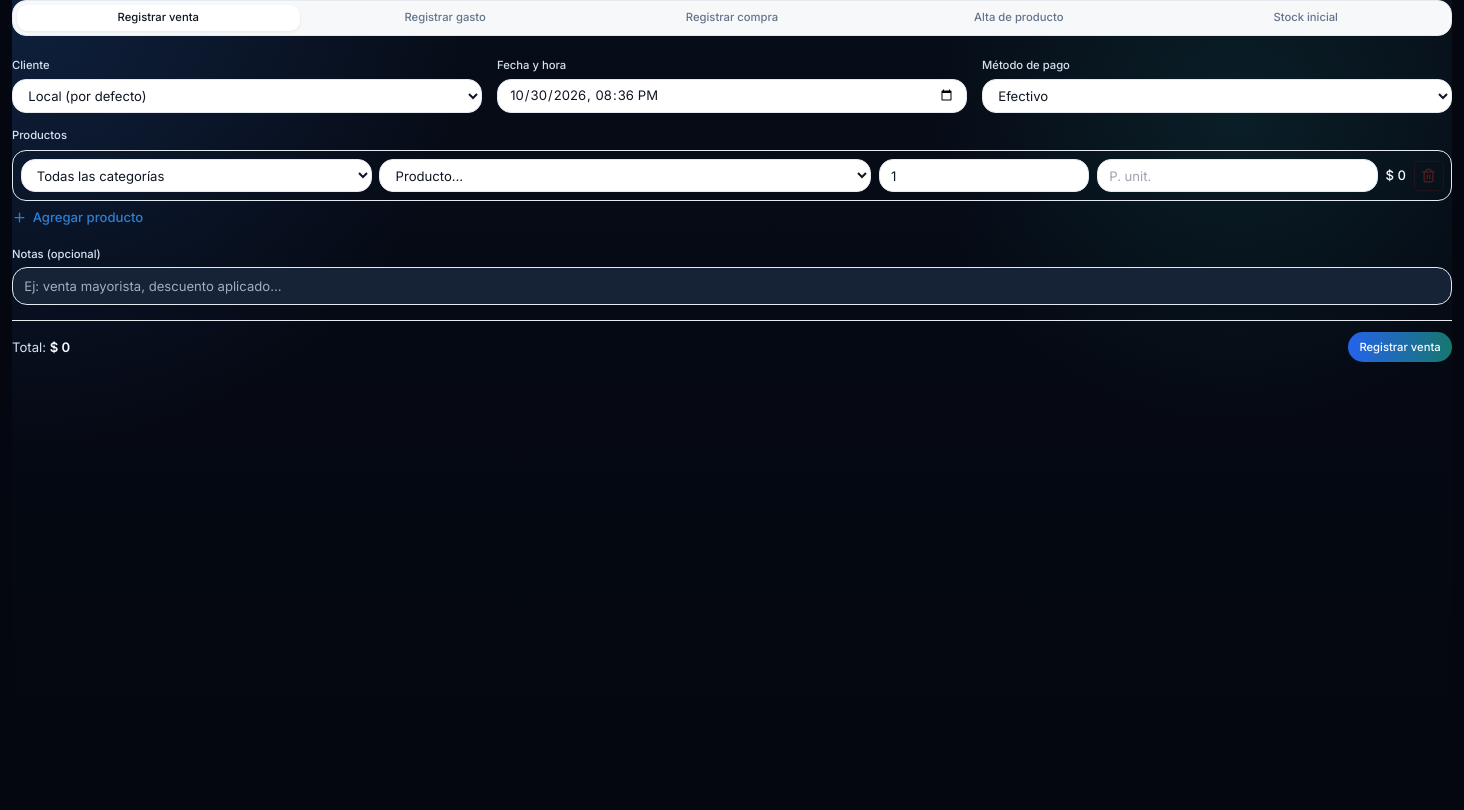
Test: con stock y sin precio de compra no se envía
Click the button "Alta de producto" at (1019, 18), box [877,5,1160,31]
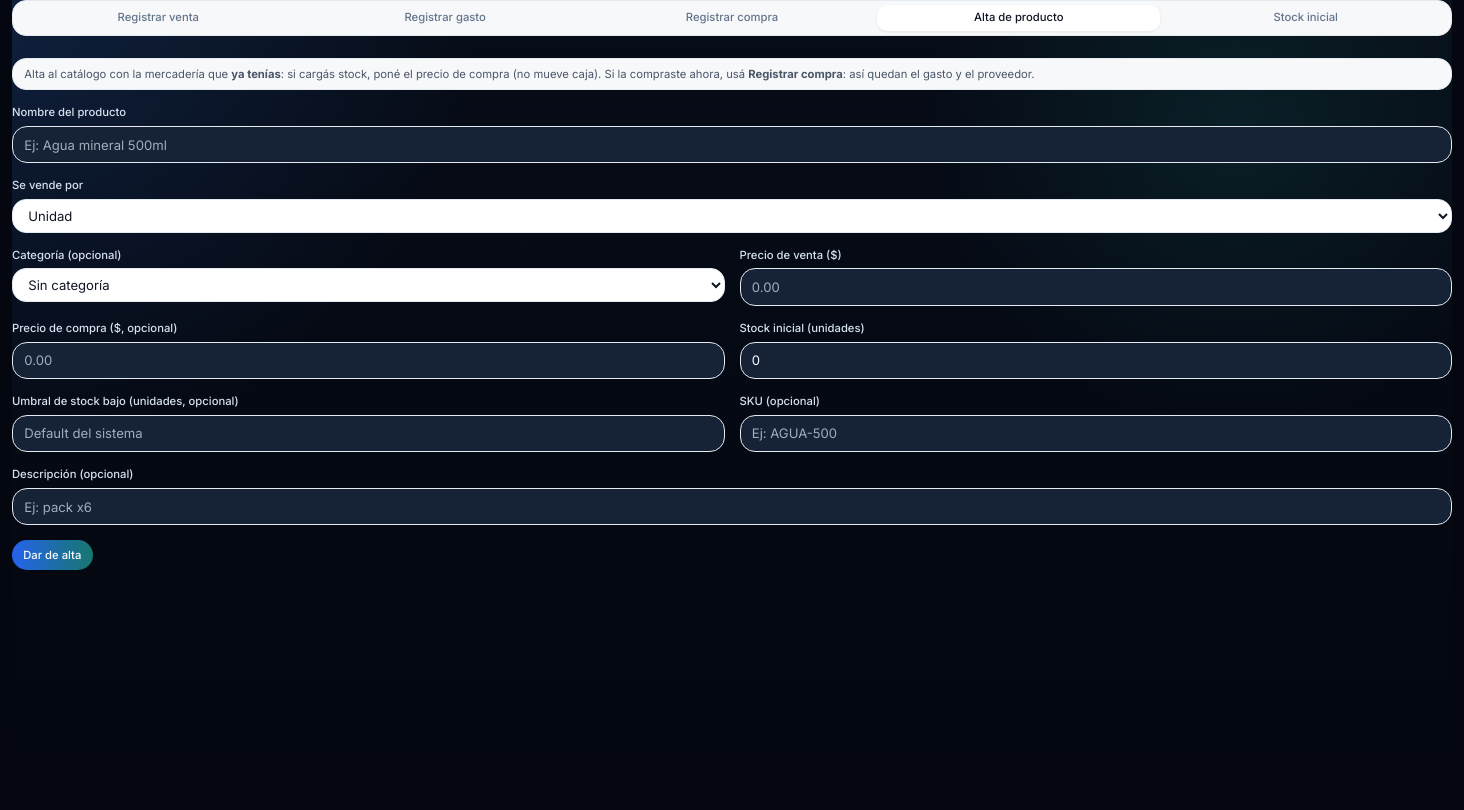
Type "Vela" into the field labelled "Nombre del producto" at (732, 145), box [12,126,1452,163]
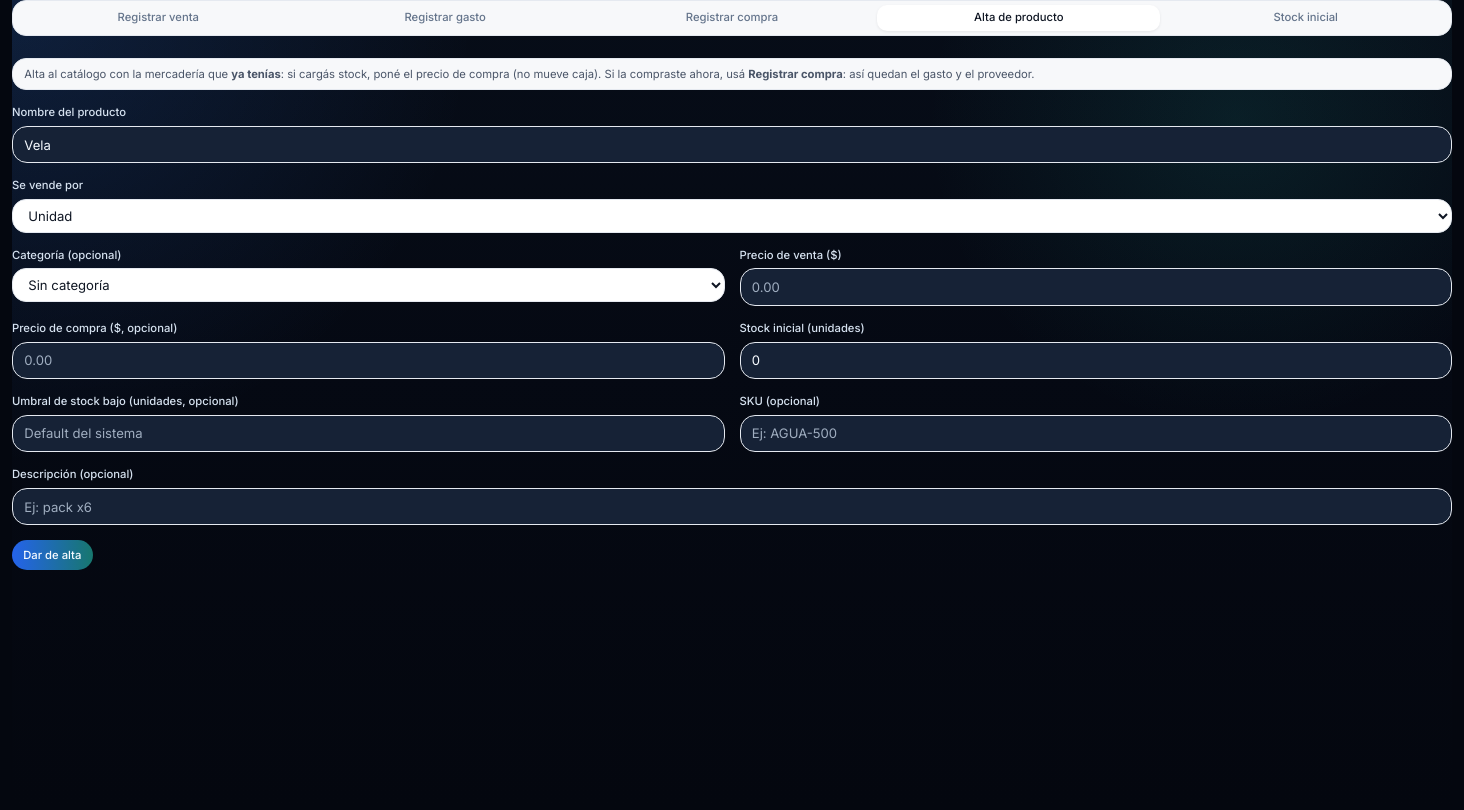
Type "300" into the number field labelled "Precio de venta ($)" at (1096, 287), box [740,268,1452,306]
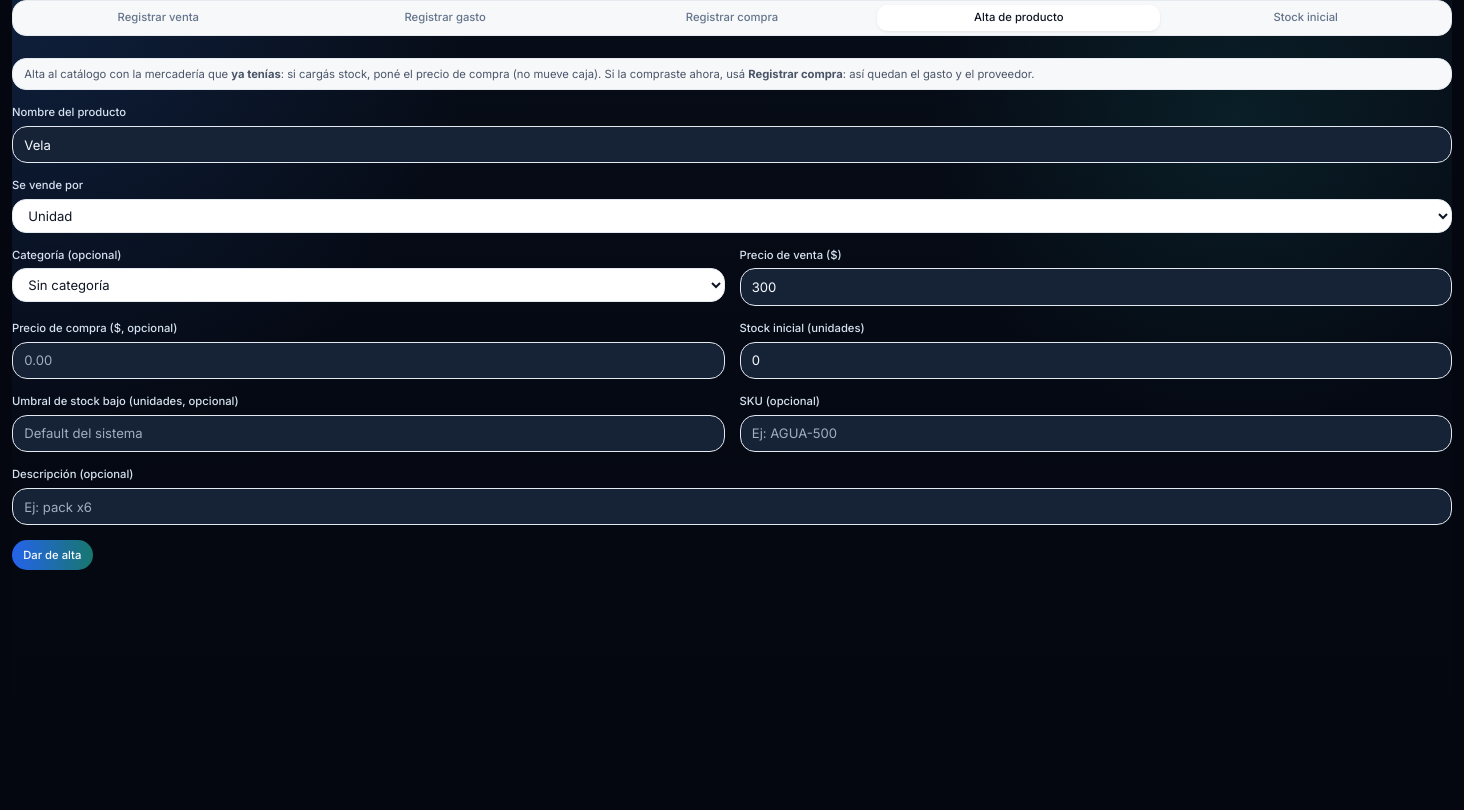
Type "10" into the field labelled "Stock inicial (unidades)" at (1096, 360), box [740,342,1452,379]
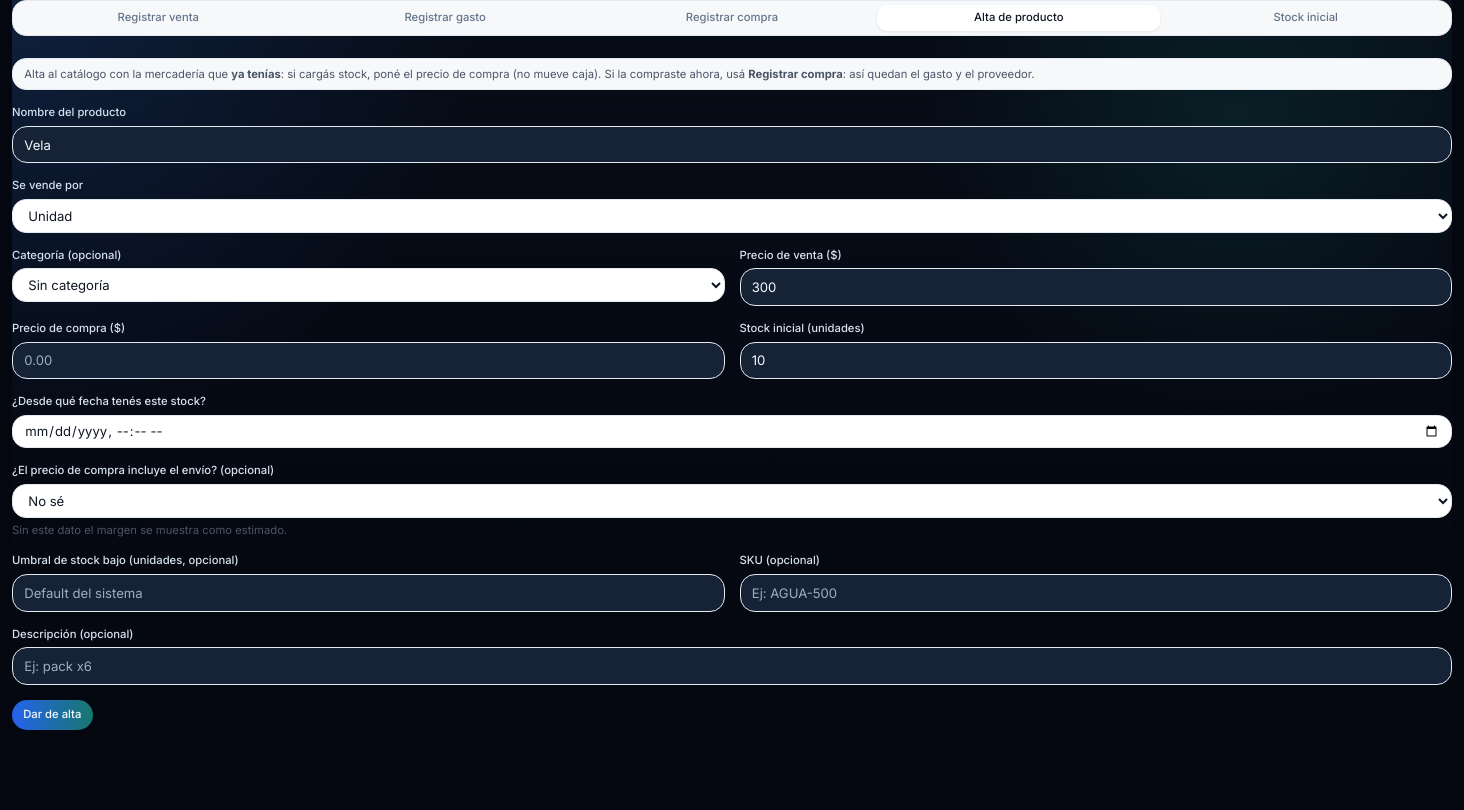
Click the button "Dar de alta" at (52, 715), box [12,700,93,730]
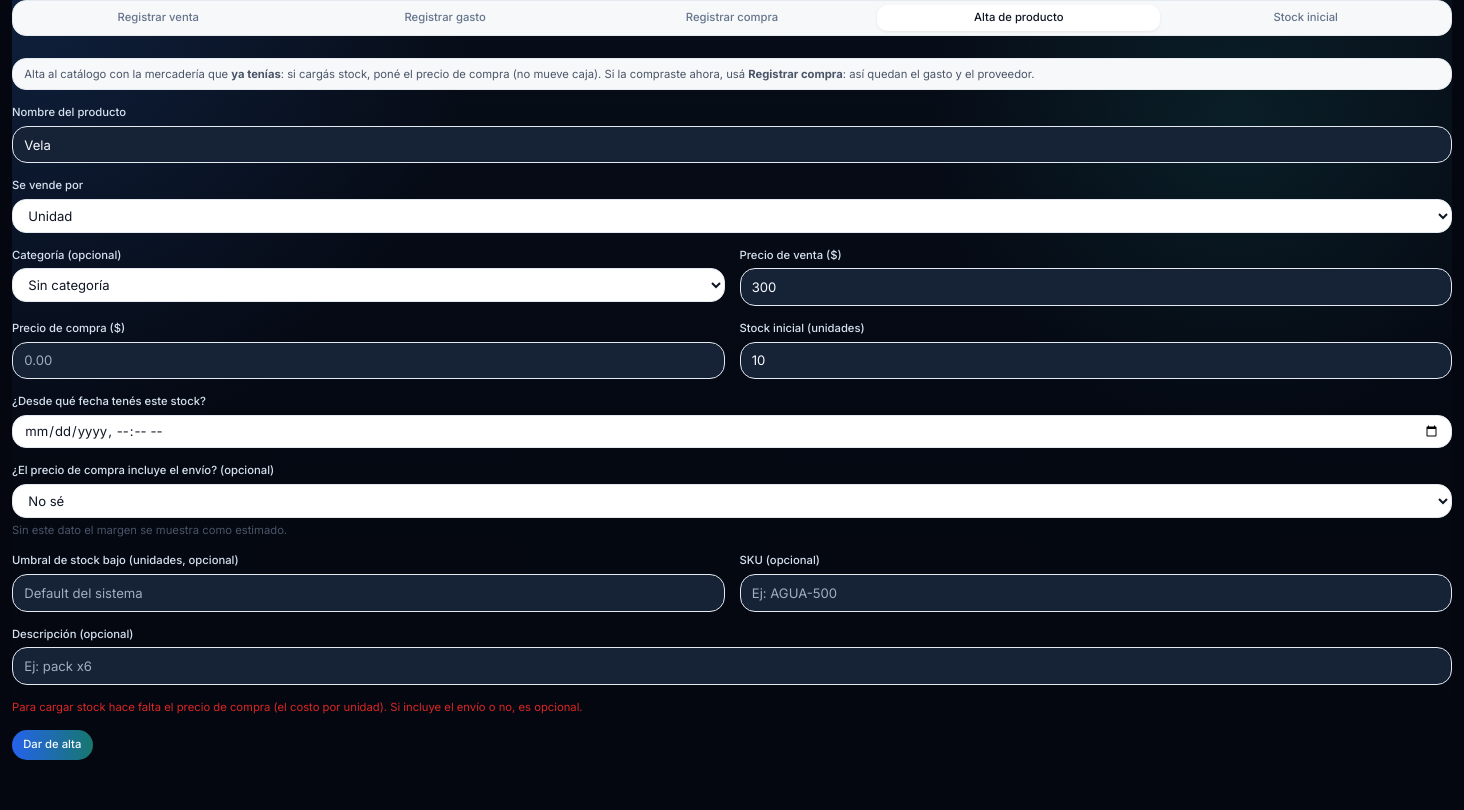
Check: the text "hace falta el precio de compra" is shown, box [12,700,583,714]
